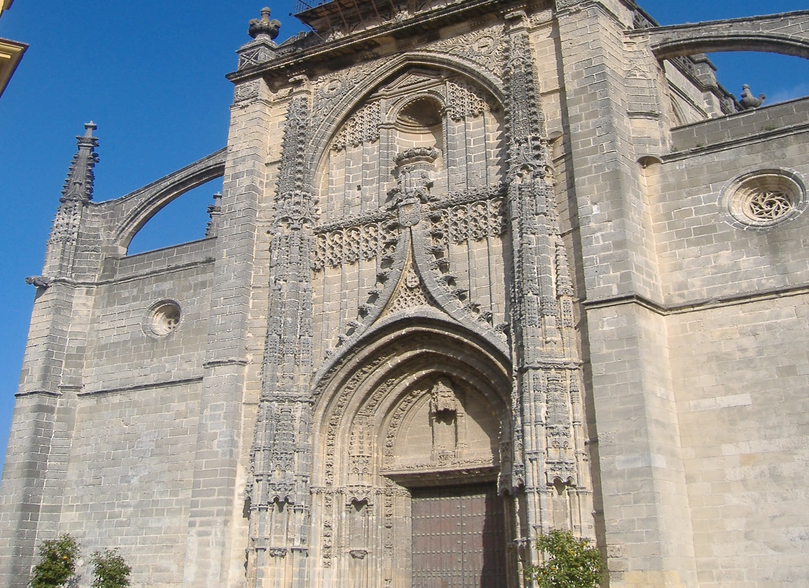arco-apuntado: (350, 323, 505, 457), (320, 45, 517, 127)
pinaculo-gotico: (55, 116, 104, 206)
